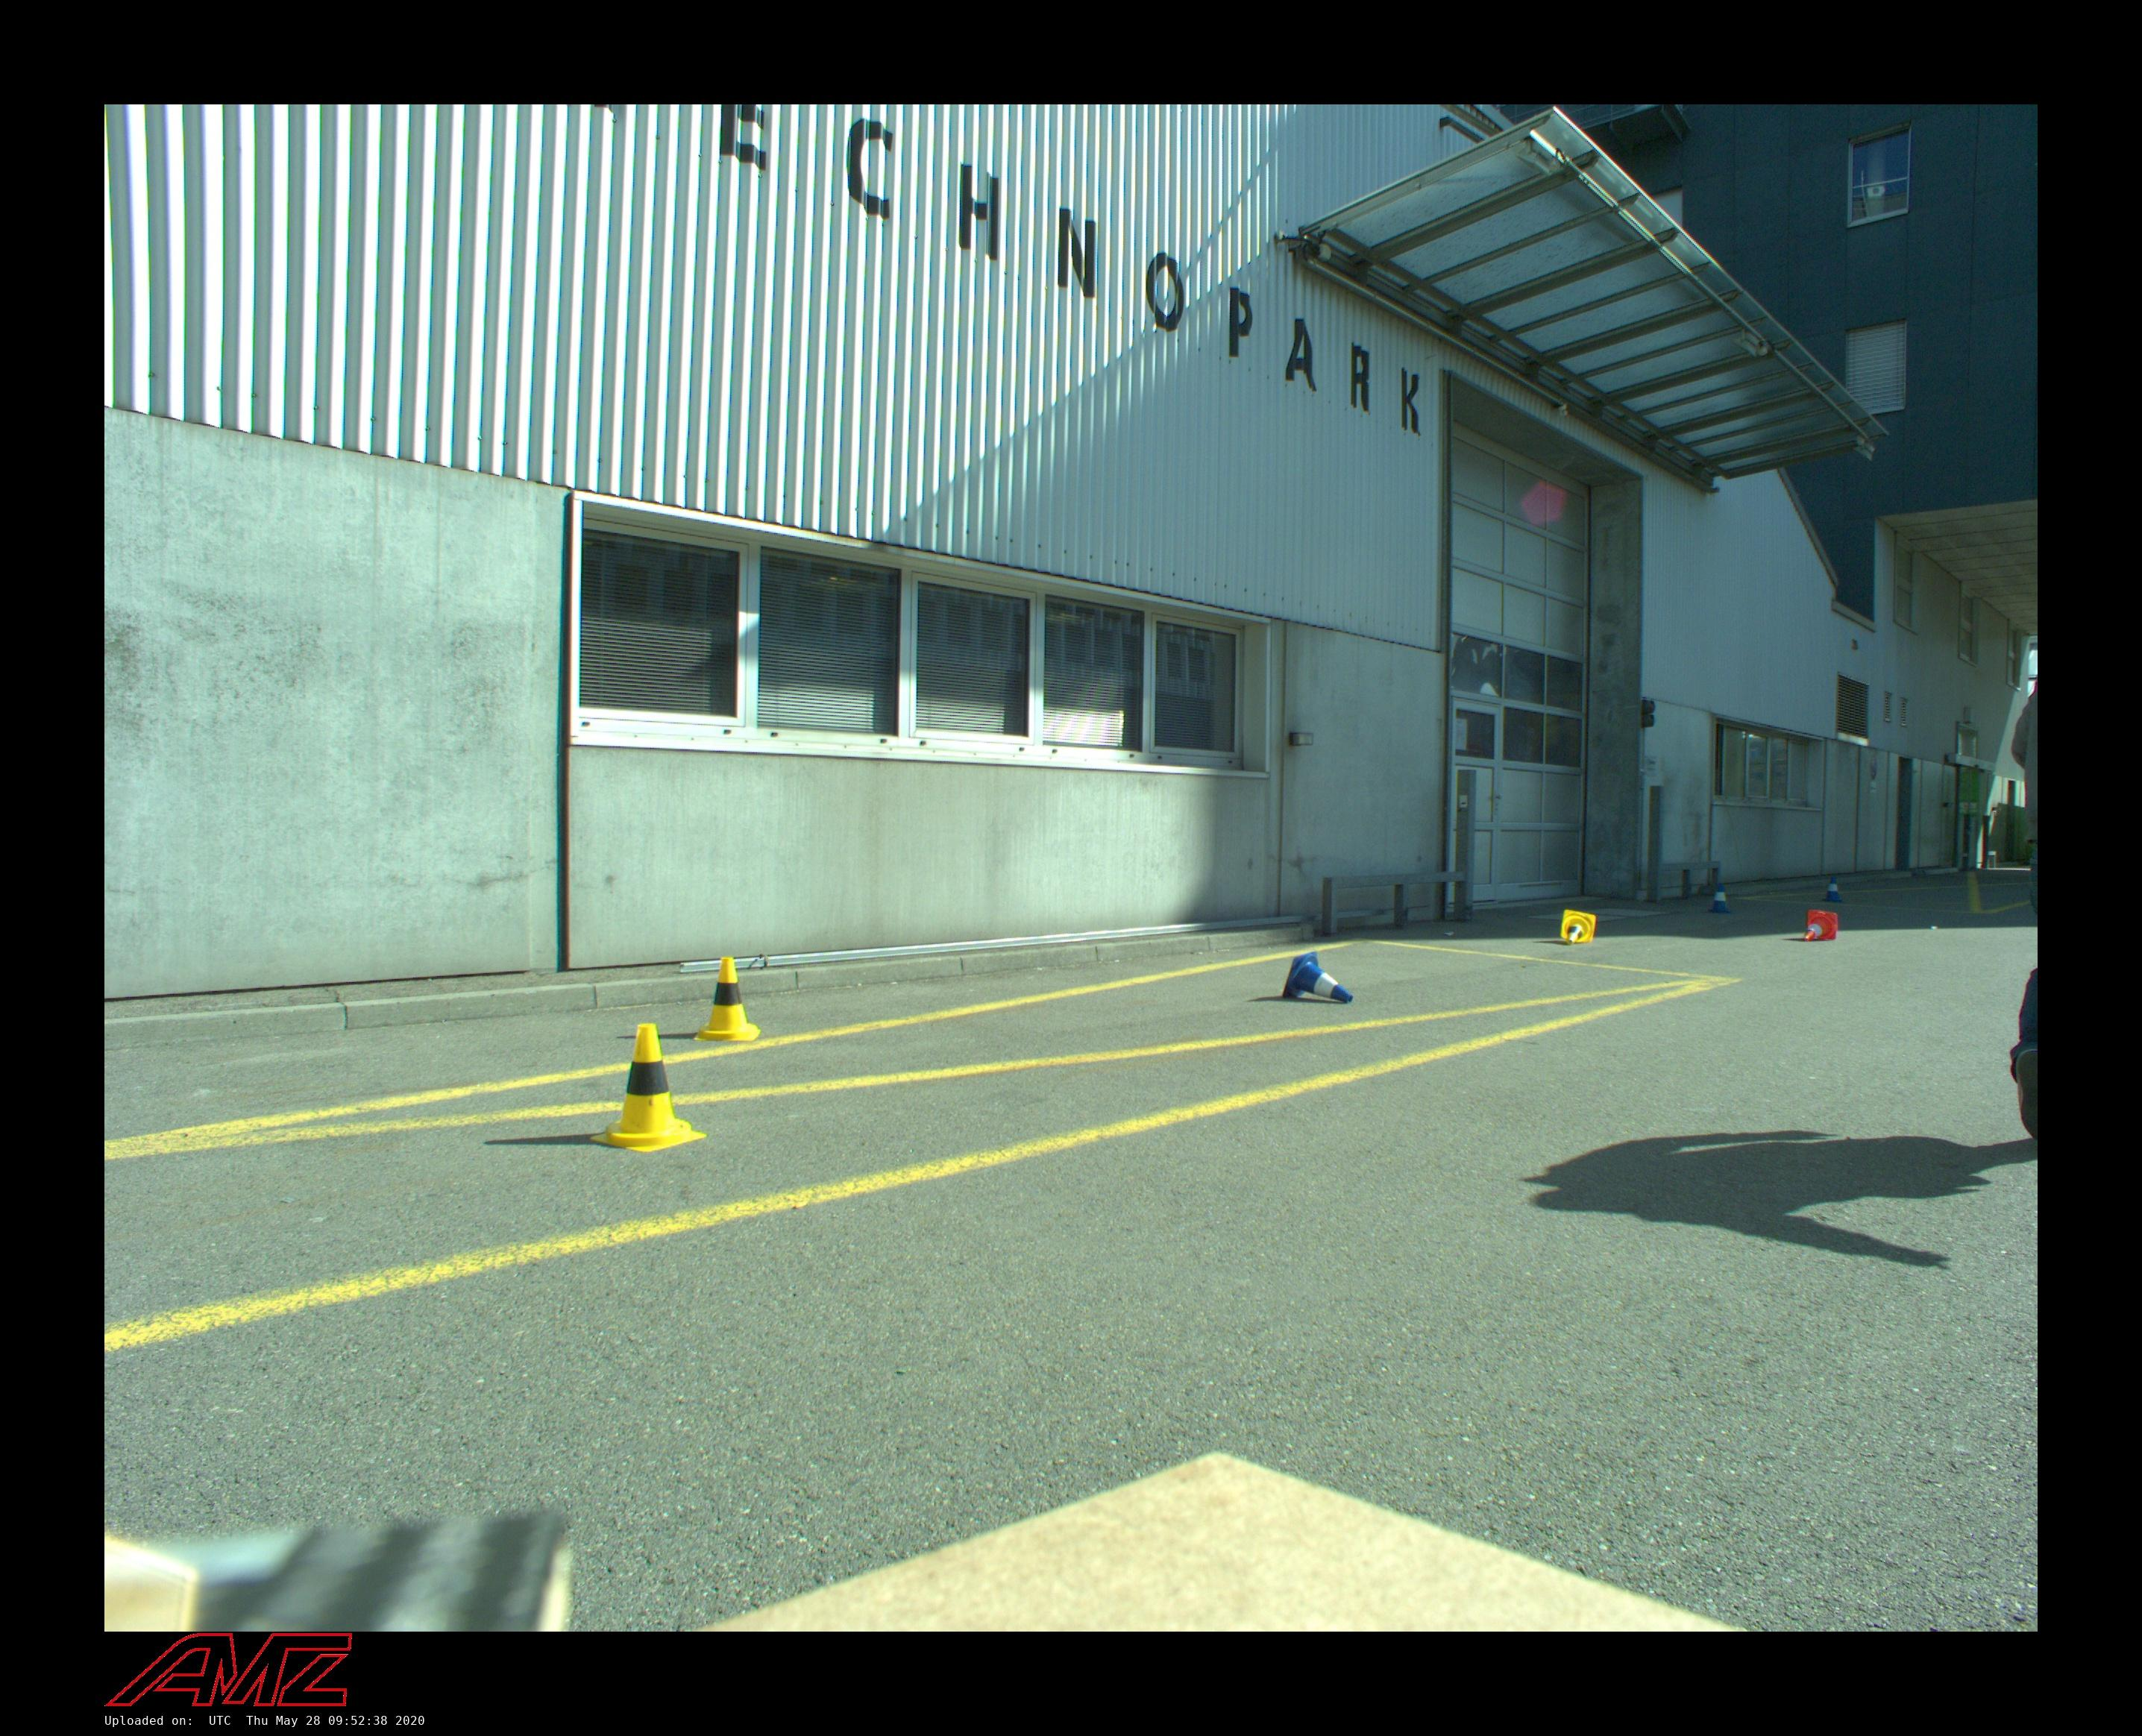blue_cone: (1283, 951, 1354, 1004), (1708, 882, 1731, 914), (1823, 877, 1843, 902)
orange_cone: (1804, 911, 1837, 941)
yellow_cone: (590, 1024, 707, 1151), (693, 958, 760, 1042), (1559, 911, 1596, 946)
